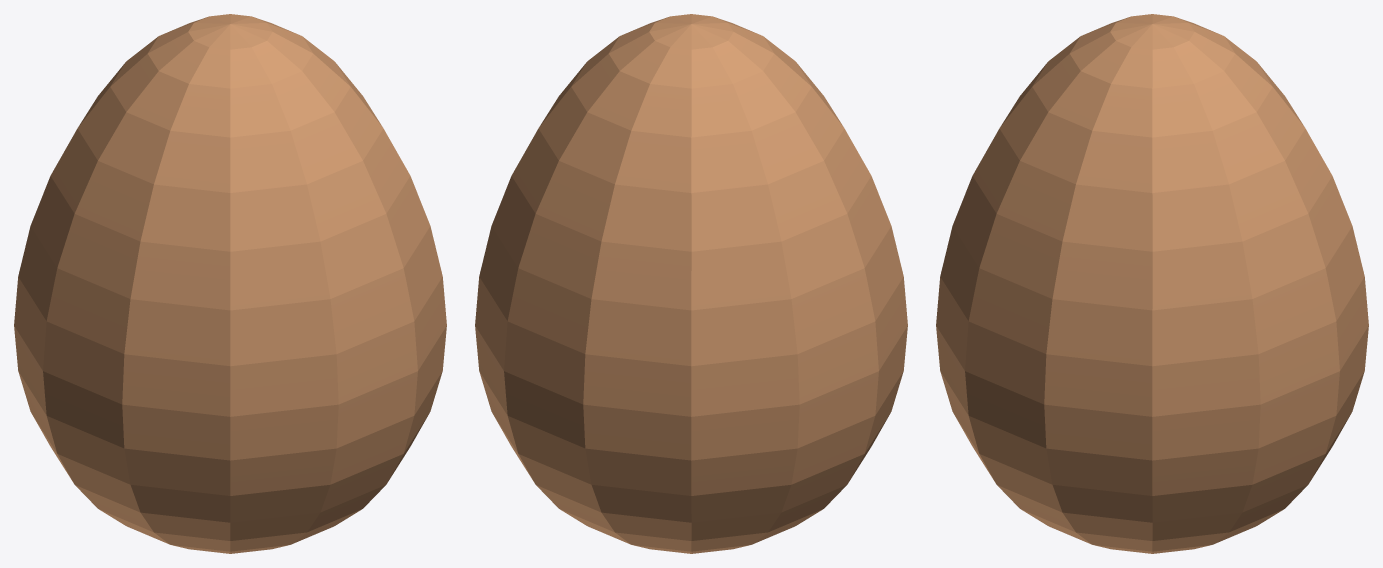
The model's file is Egg.fbx.
The picture shows the model from 3 angles, left to right: view 1: azimuth 30°, elevation 25°; view 2: azimuth 150°, elevation 25°; view 3: azimuth 270°, elevation 25°; orthographic projection.
Parts seen in each view (by area): view 1: Egg; view 2: Egg; view 3: Egg.
Part boxes in pixels (<box>): Egg: <box>14,14,446,553</box>; Egg: <box>475,14,907,553</box>; Egg: <box>936,14,1368,553</box>.
Size of the model in its own units: 0.153 by 0.1989 by 0.153.
Materials: 1 (1 with a texture image).
